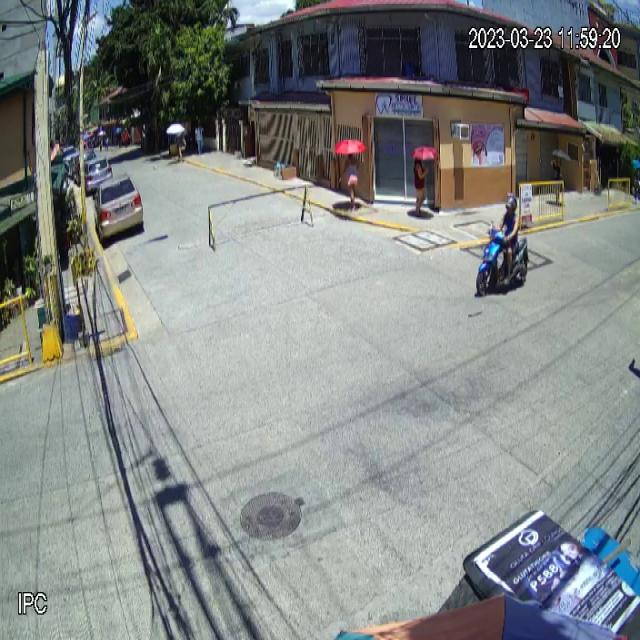Motorcycle: (476, 220, 530, 298)
